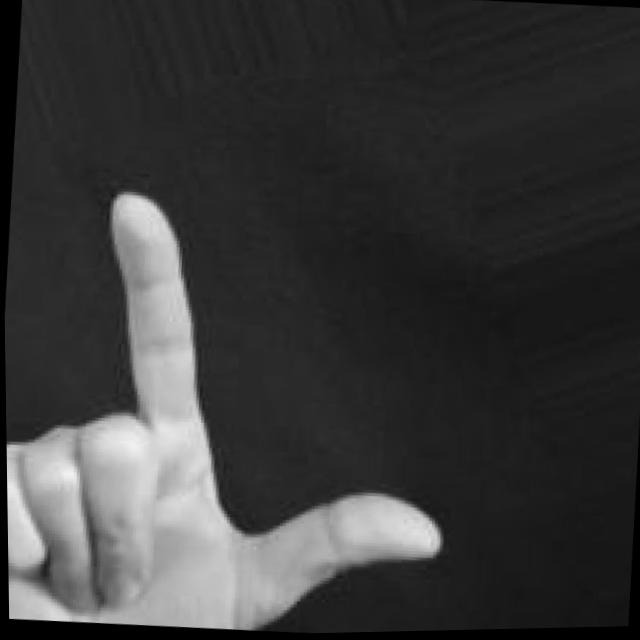L: (3, 163, 477, 640)
